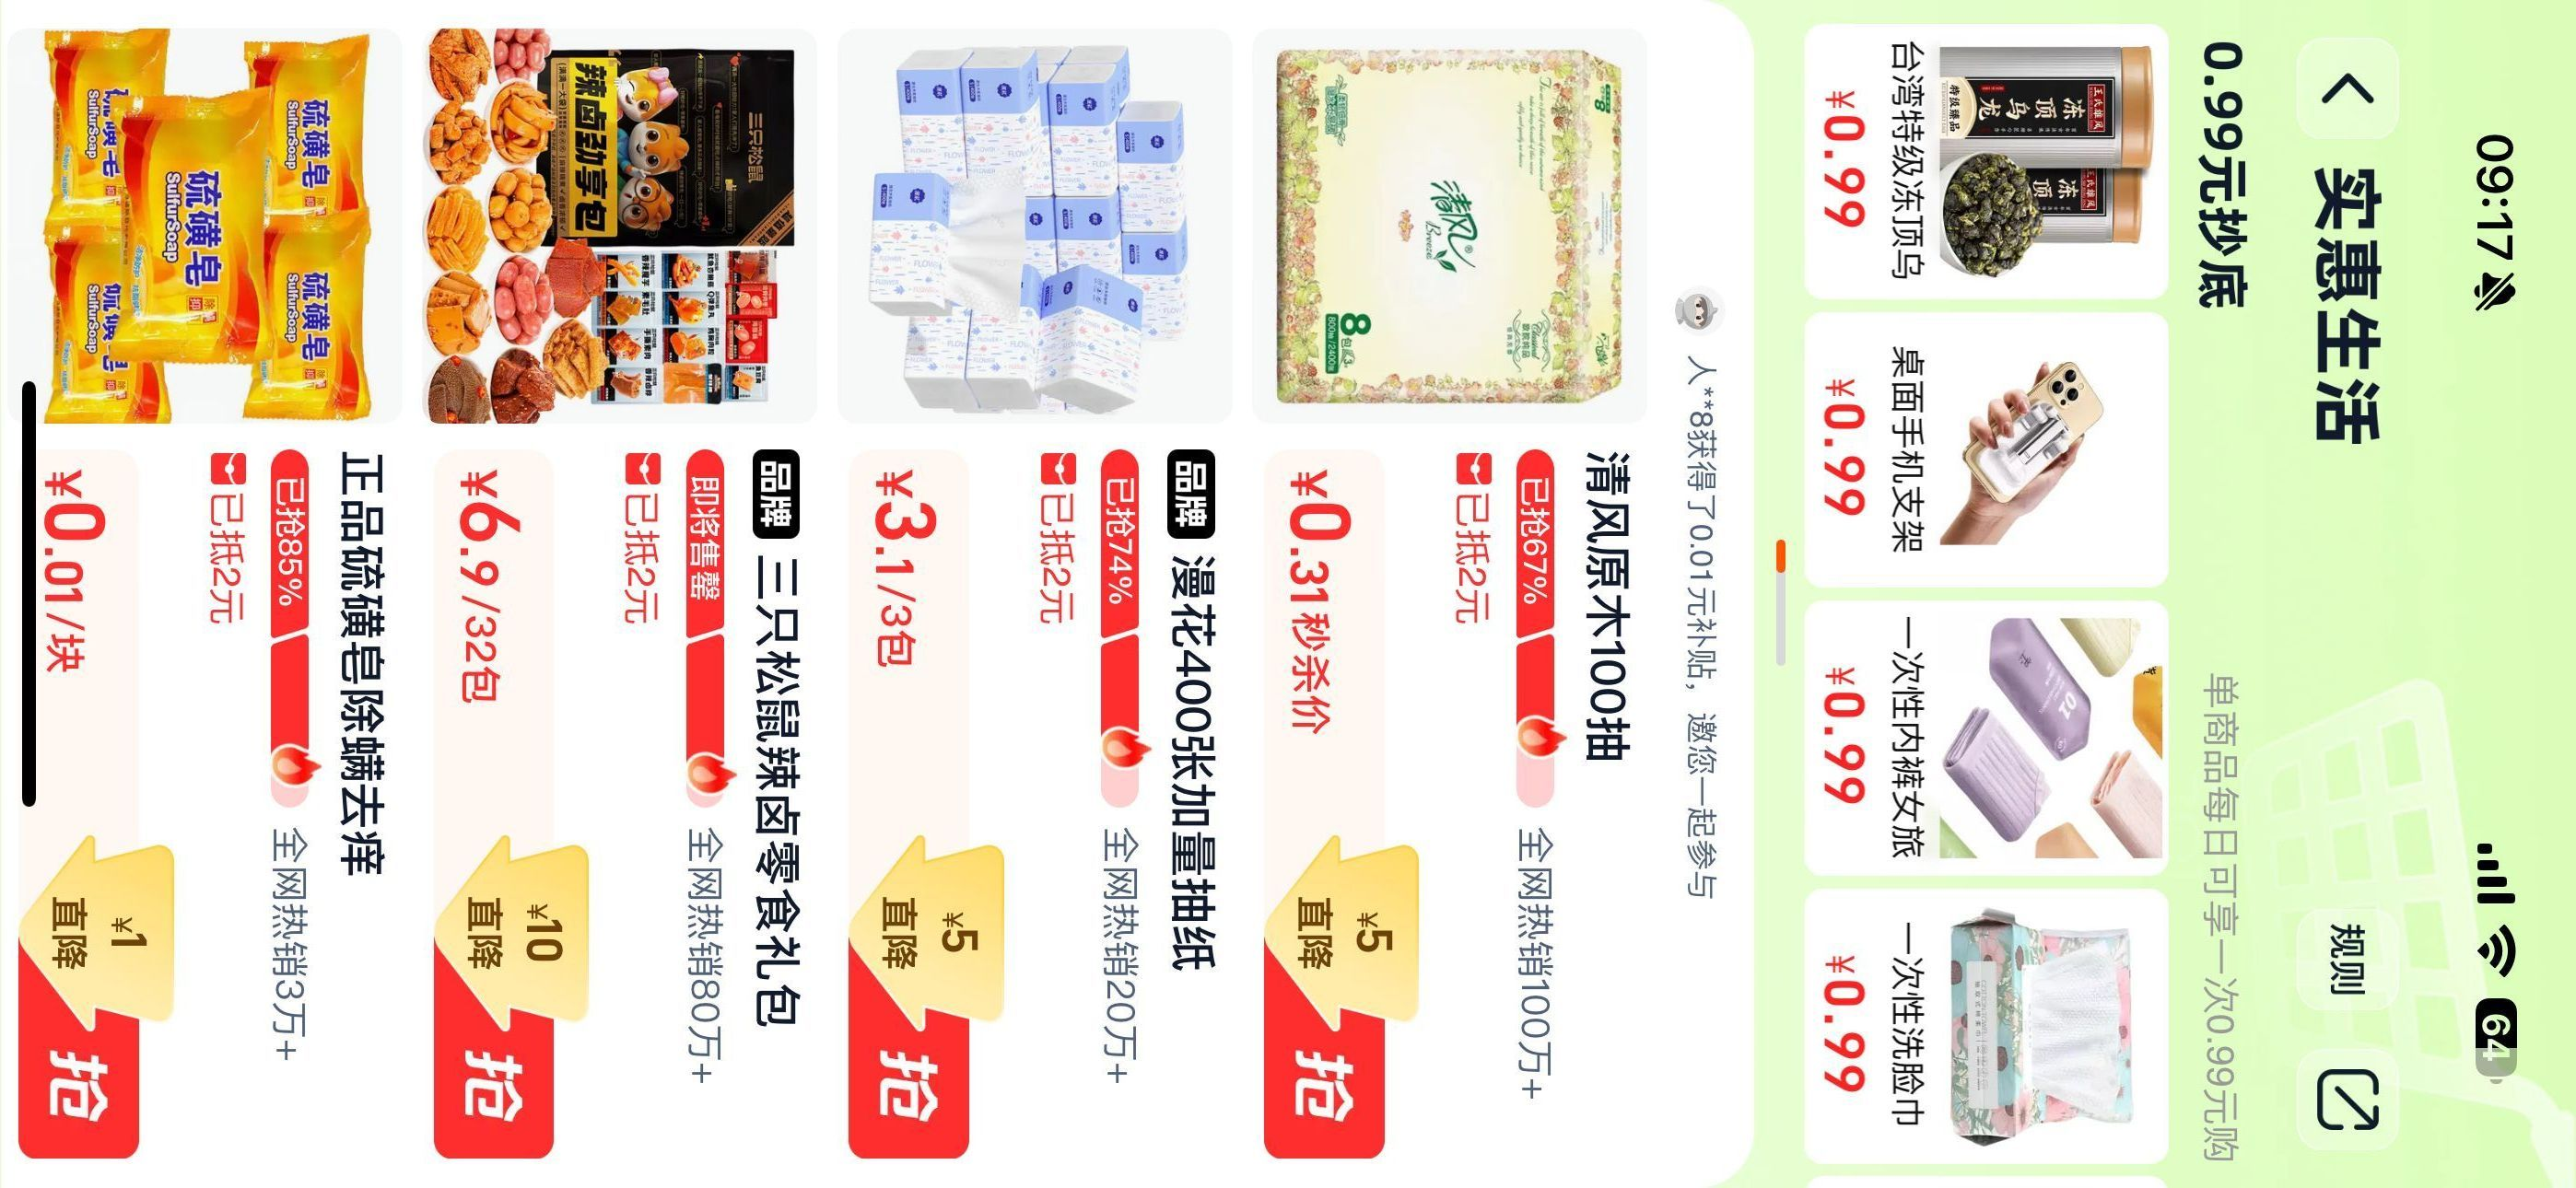item: (1250, 3, 1677, 1188), (823, 3, 1244, 1178), (411, 8, 817, 1188), (20, 2, 402, 1188)
op_bar: (2275, 13, 2425, 1185)
seckill: (1778, 3, 2183, 1188)
